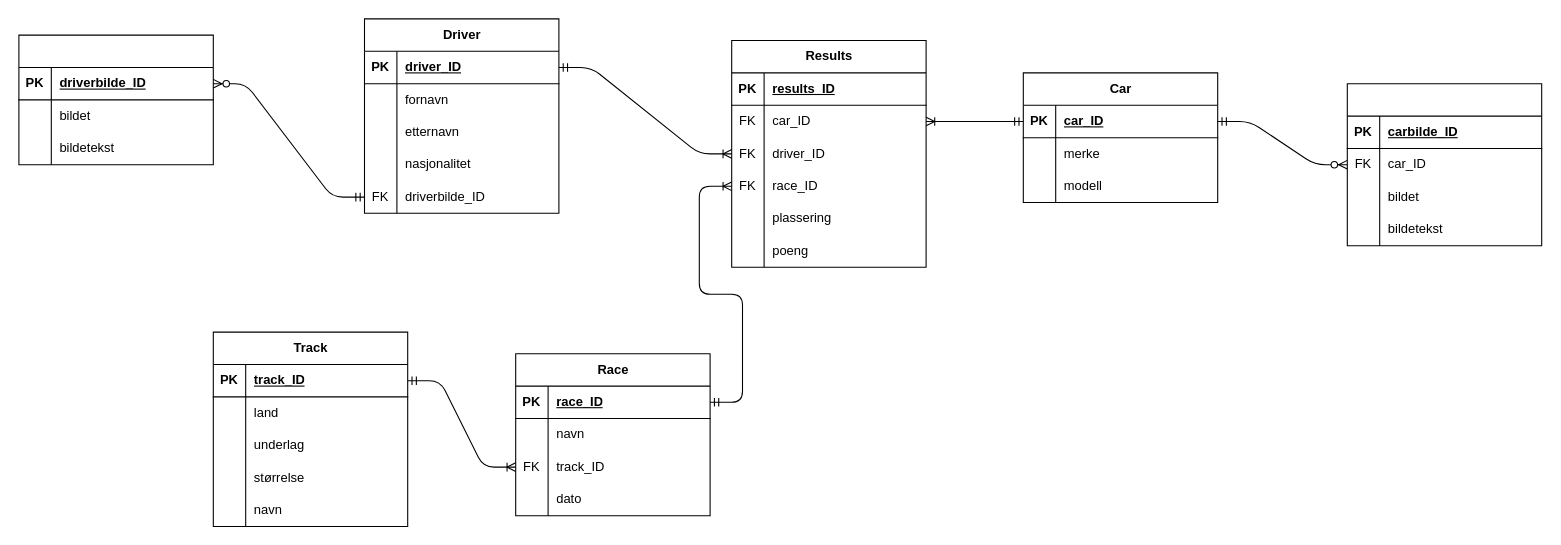
The diagram is 1561 pixels wide and 545 high, and some of its shapes have lost their labels. The box of each missing label's shape, as (x1, y1, x2, y2) in pixels:
Bilde_Car: (1346, 83, 1542, 246)
Bilde_Driver: (18, 34, 213, 165)
